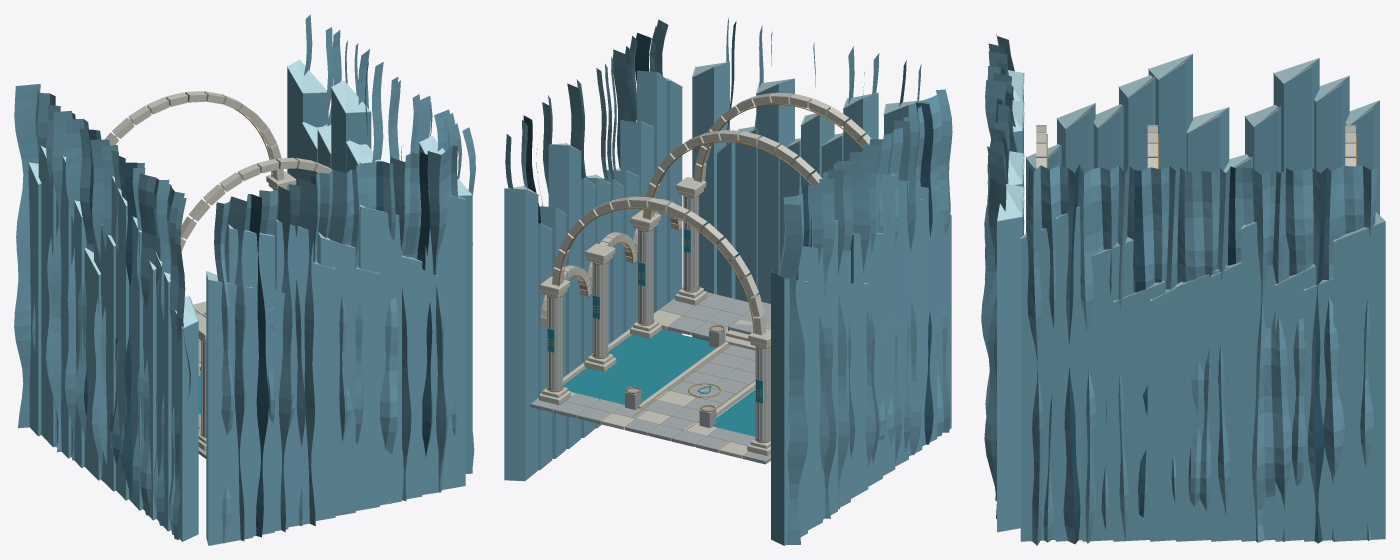
Rendered from water-sanctuary-v01.glb.
3 renders of one model, left to right at view 1: azimuth 30°, elevation 25°; view 2: azimuth 150°, elevation 25°; view 3: azimuth 270°, elevation 25°, orthographic. The views are drawn at different scales.
Visible parts, largest first — view 1: Interior glacial strata 4, Interior glacial depths 5, Interior carved edges 1, Interior frost crest 6, Interior limestone 0; view 2: Interior glacial strata 4, Interior carved edges 1, Interior limestone 0, Interior water enamel 3, Interior glacial depths 5, Interior aged bronze 2, Interior frost crest 6; view 3: Interior glacial strata 4, Interior frost crest 6, Interior glacial depths 5, Interior carved edges 1.
Part boxes in pixels (left/top/right/bottom): Interior glacial strata 4: left=14, top=14, right=475, bottom=545; Interior glacial depths 5: left=84, top=61, right=432, bottom=537; Interior carved edges 1: left=104, top=91, right=332, bottom=450; Interior frost crest 6: left=28, top=59, right=472, bottom=328; Interior limestone 0: left=195, top=310, right=206, bottom=458; Interior glacial strata 4: left=504, top=17, right=952, bottom=545; Interior carved edges 1: left=539, top=92, right=871, bottom=458; Interior limestone 0: left=530, top=196, right=770, bottom=464; Interior water enamel 3: left=547, top=228, right=762, bottom=436; Interior glacial depths 5: left=523, top=21, right=933, bottom=444; Interior aged bronze 2: left=546, top=103, right=862, bottom=442; Interior frost crest 6: left=505, top=62, right=951, bottom=284; Interior glacial strata 4: left=981, top=34, right=1385, bottom=545; Interior frost crest 6: left=997, top=54, right=1385, bottom=301; Interior glacial depths 5: left=1069, top=165, right=1326, bottom=543; Interior carved edges 1: left=1036, top=125, right=1355, bottom=168.
Size of the model in its own units: 15.77 by 16.56 by 16.36.
